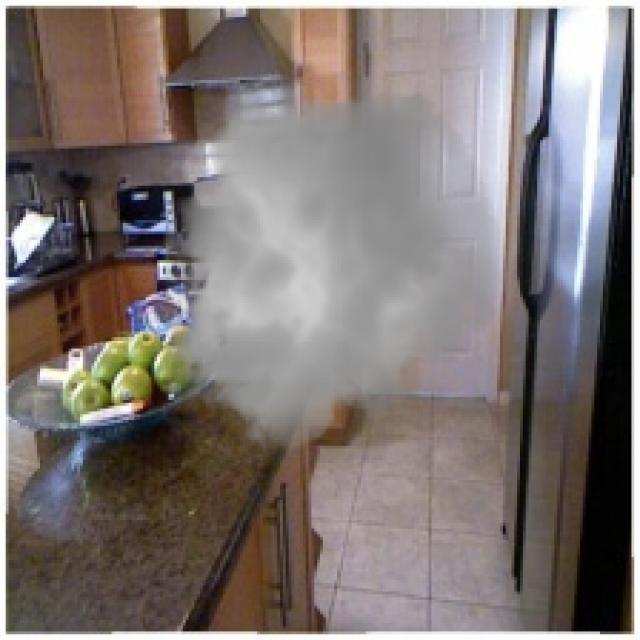Smoke: (148, 71, 514, 466)
